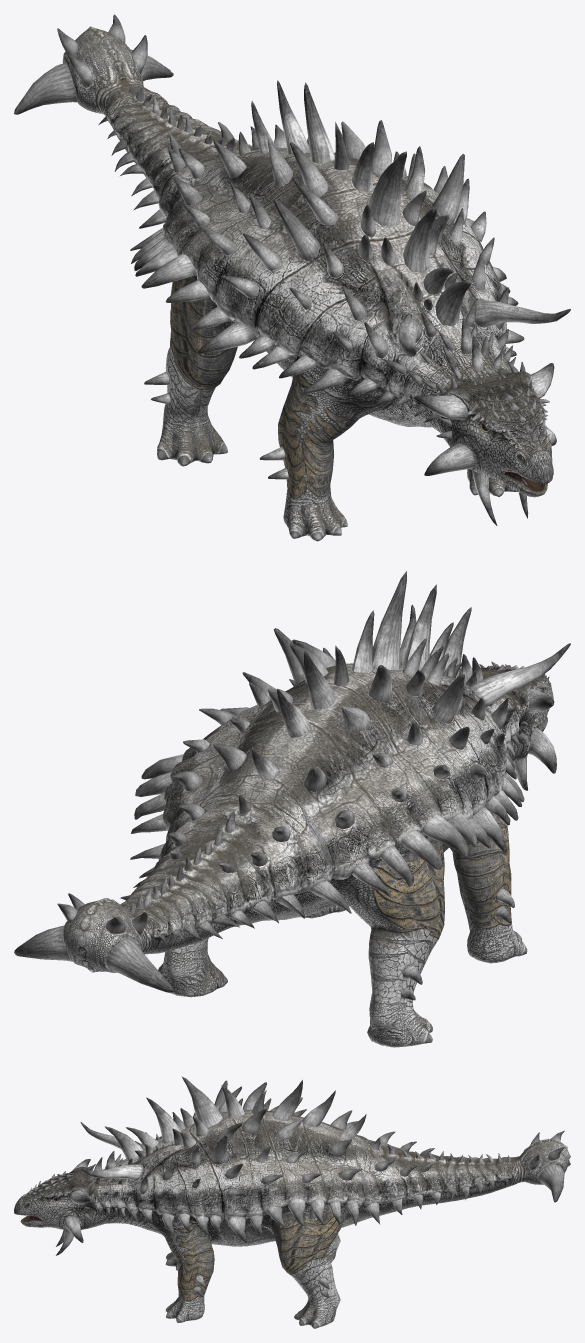
The model's file is ankylosaurus.glb.
3 renders of one model, top to bottom at view 1: azimuth 30°, elevation 25°; view 2: azimuth 150°, elevation 25°; view 3: azimuth 270°, elevation 25°, orthographic. The views are drawn at different scales.
Visible parts, largest first — view 1: Object_4, Object_3; view 2: Object_4, Object_3; view 3: Object_4, Object_3.
Boxes of the visible parts, x1=… form: Object_4: x1=14, y1=14, x2=570, y2=427; Object_3: x1=129, y1=80, x2=556, y2=541; Object_4: x1=14, y1=604, x2=570, y2=992; Object_3: x1=129, y1=571, x2=556, y2=1047; Object_4: x1=50, y1=1080, x2=570, y2=1246; Object_3: x1=14, y1=1076, x2=510, y2=1328.
Bounding box in the file's own units: 383 × 402 × 950.
2 materials, 2 textured.
